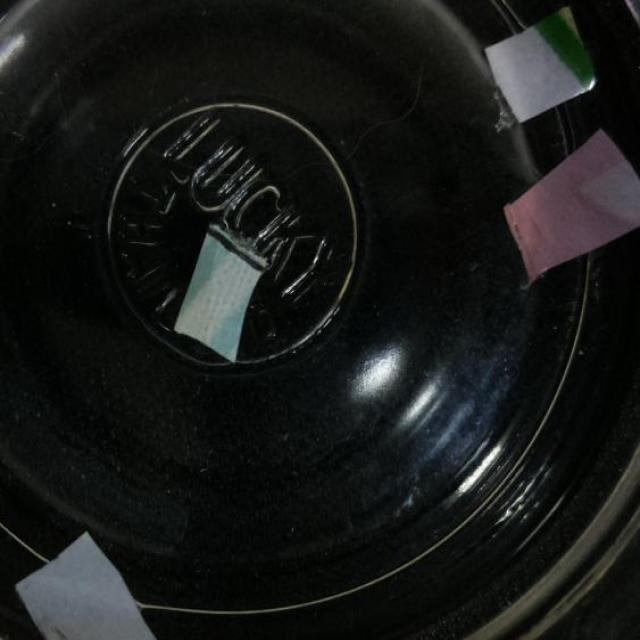fiber: (501, 123, 640, 282), (14, 519, 160, 640), (172, 218, 267, 374), (483, 7, 597, 123)
